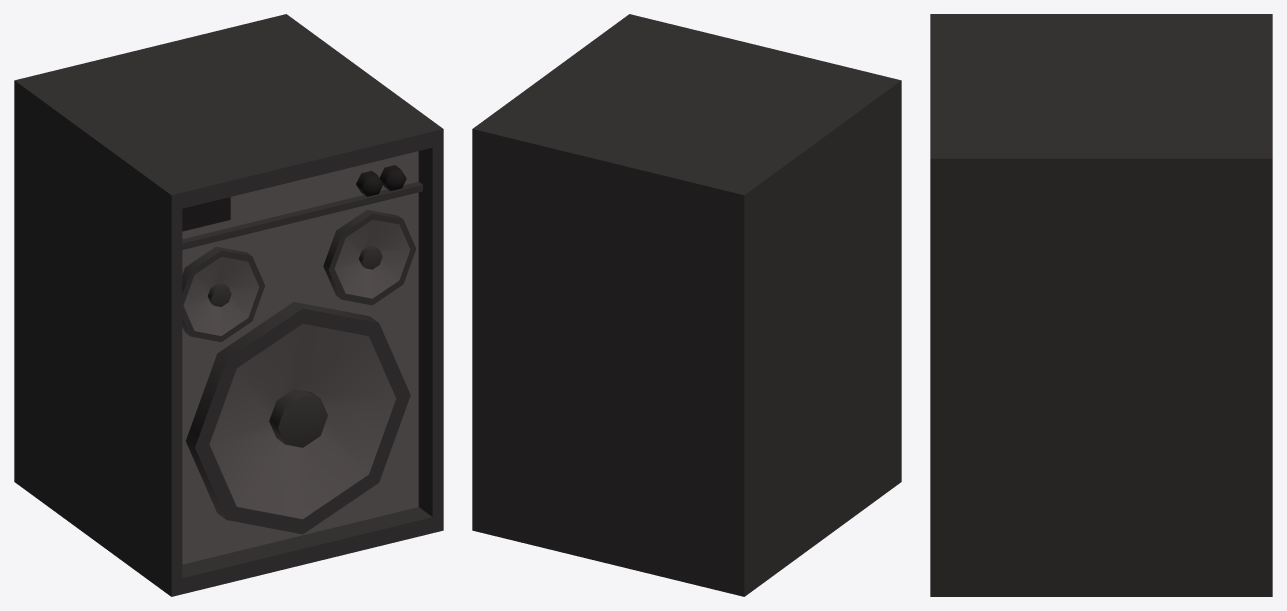
The model's file is 20_prop_Speaker.FBX.
3 renders of one model, left to right at view 1: azimuth 30°, elevation 25°; view 2: azimuth 150°, elevation 25°; view 3: azimuth 270°, elevation 25°, orthographic. The views are drawn at different scales.
Visible parts, largest first — view 1: prop_Speaker; view 2: prop_Speaker; view 3: prop_Speaker.
Boxes of the visible parts, <box> form: prop_Speaker: <box>14,14,443,596</box>; prop_Speaker: <box>472,14,901,596</box>; prop_Speaker: <box>930,14,1272,596</box>.
Bounding box in the file's own units: 16.46 × 23.23 × 16.46.
